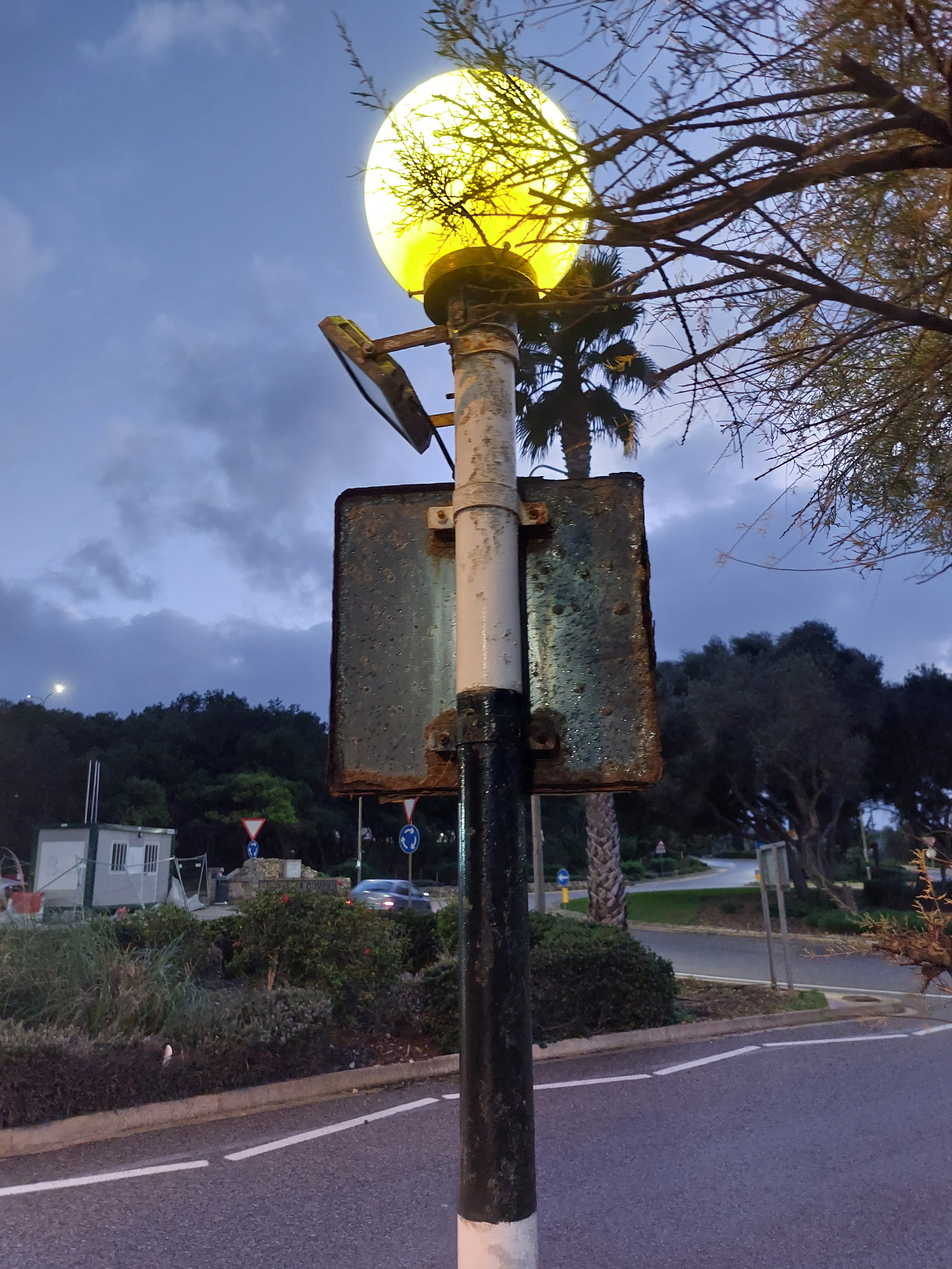Back-Unknown: (327, 471, 663, 798), (758, 840, 792, 891), (922, 837, 936, 848), (925, 848, 937, 859)
Directional Sign: (557, 868, 570, 885)
Other-Unknown: (242, 818, 266, 841), (403, 797, 419, 824)
Roundabout Ahead: (399, 824, 420, 854), (247, 840, 259, 858)
